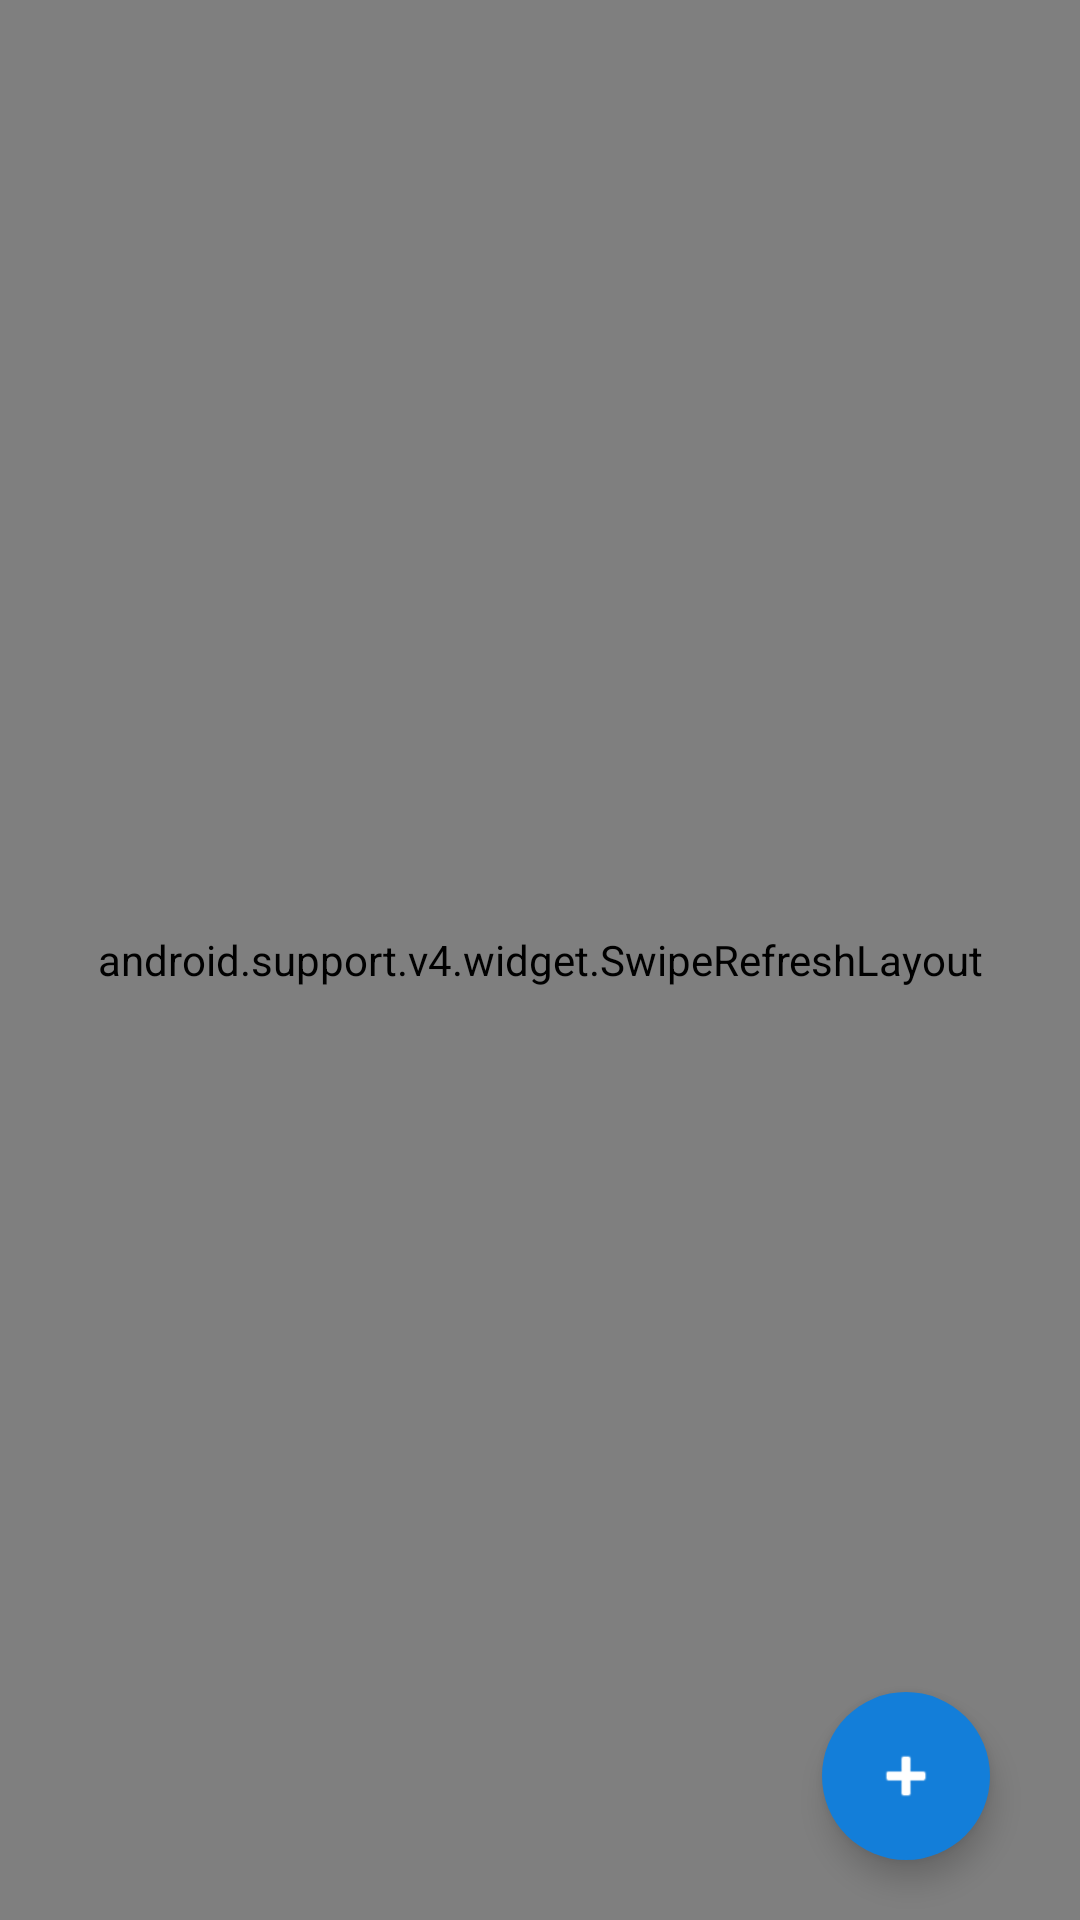

Screen size 1080w x 1920h. Icon name, then its box in pixels as region(x1, y1, x2, y2):
add: region(822, 1692, 990, 1860)
